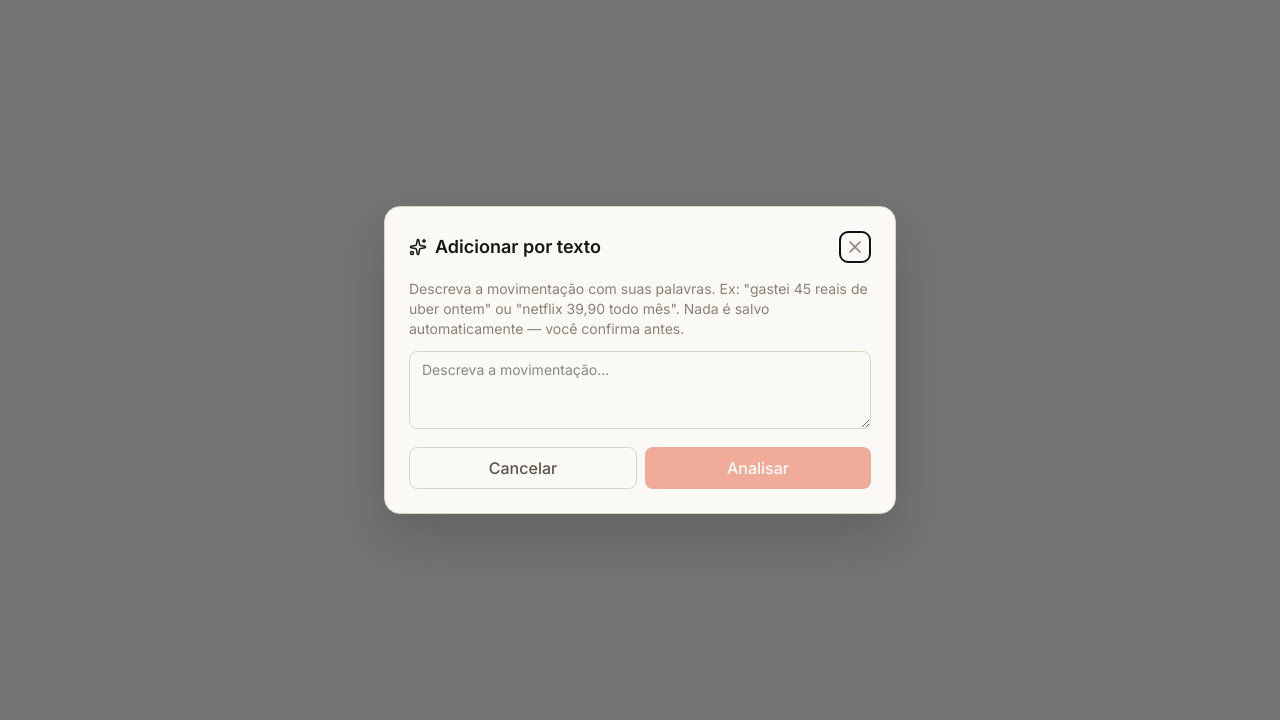
Test: AssistenteMovimentacaoModal › quando a API falha, mostra erro amigavel e nao quebra
This screenshot has width=1280, height=720.
Type "mercado 50" into the text box with placeholder "Descreva a movimentação..." at (640, 390), box [409,351,871,429]
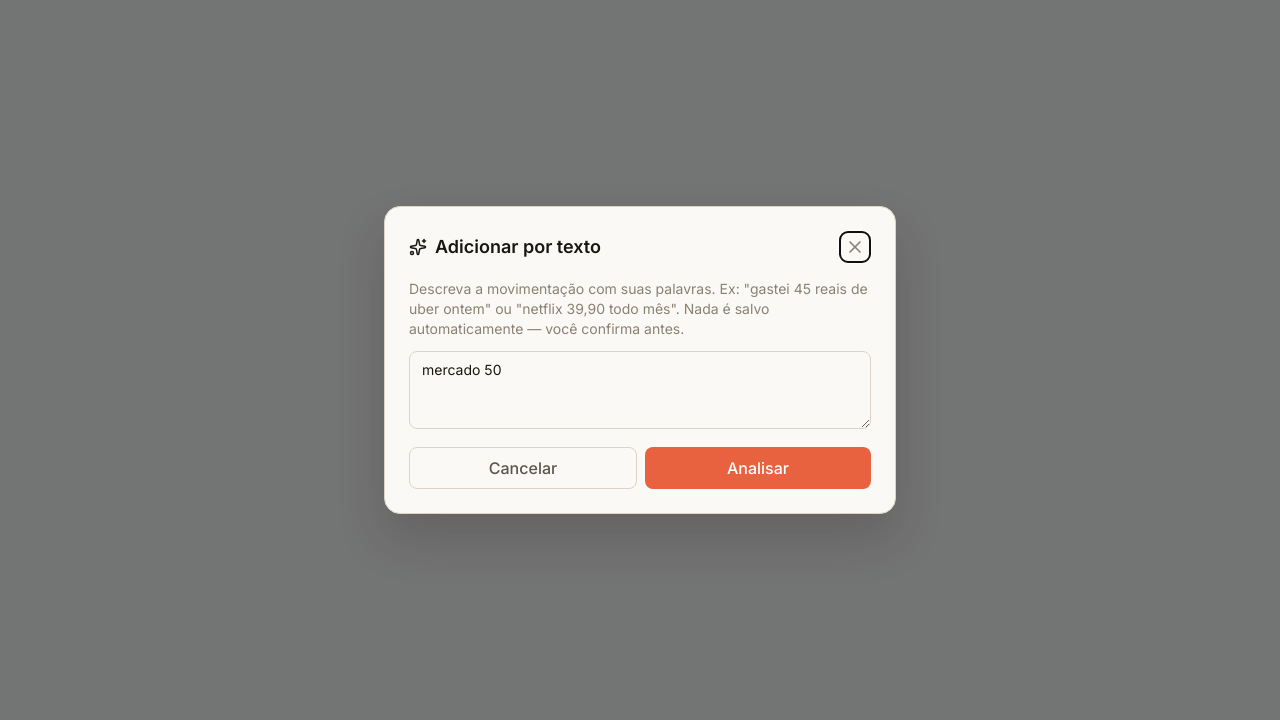
Click the button "Analisar" at (758, 468), box [645,447,871,489]
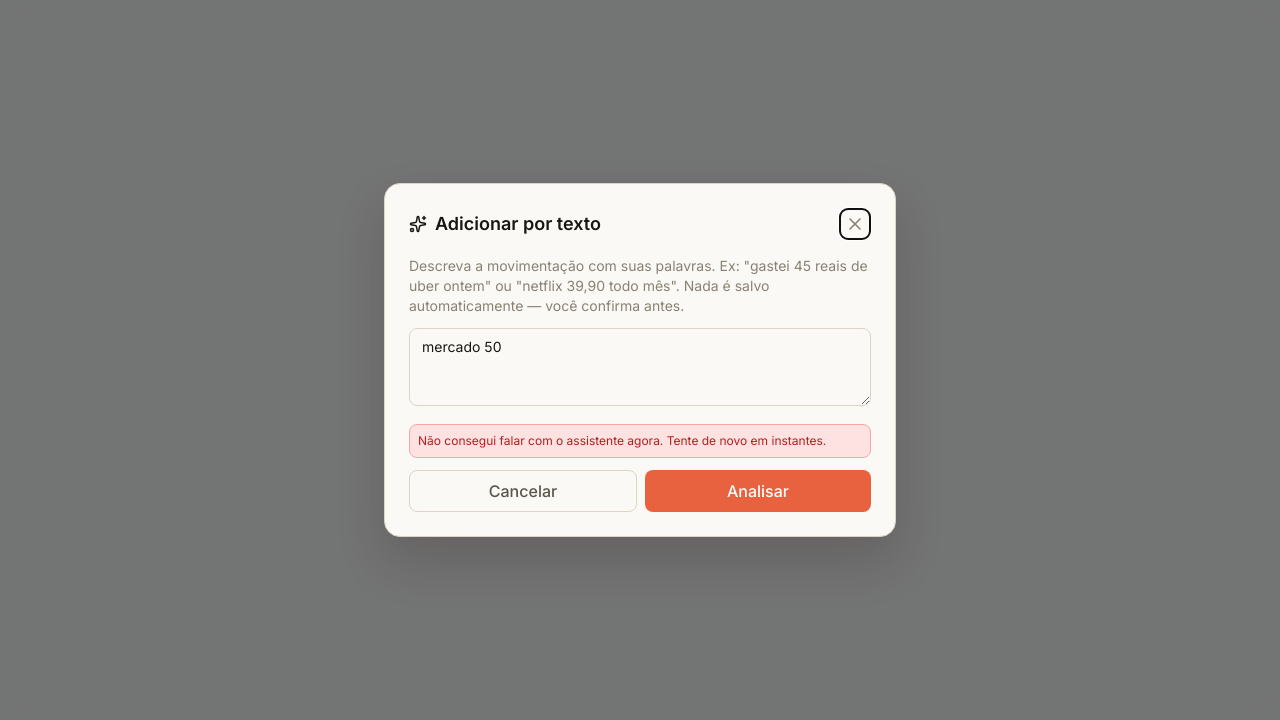
Now the text "Não consegui falar com o assistente" is shown, box [418,433,826,448]
